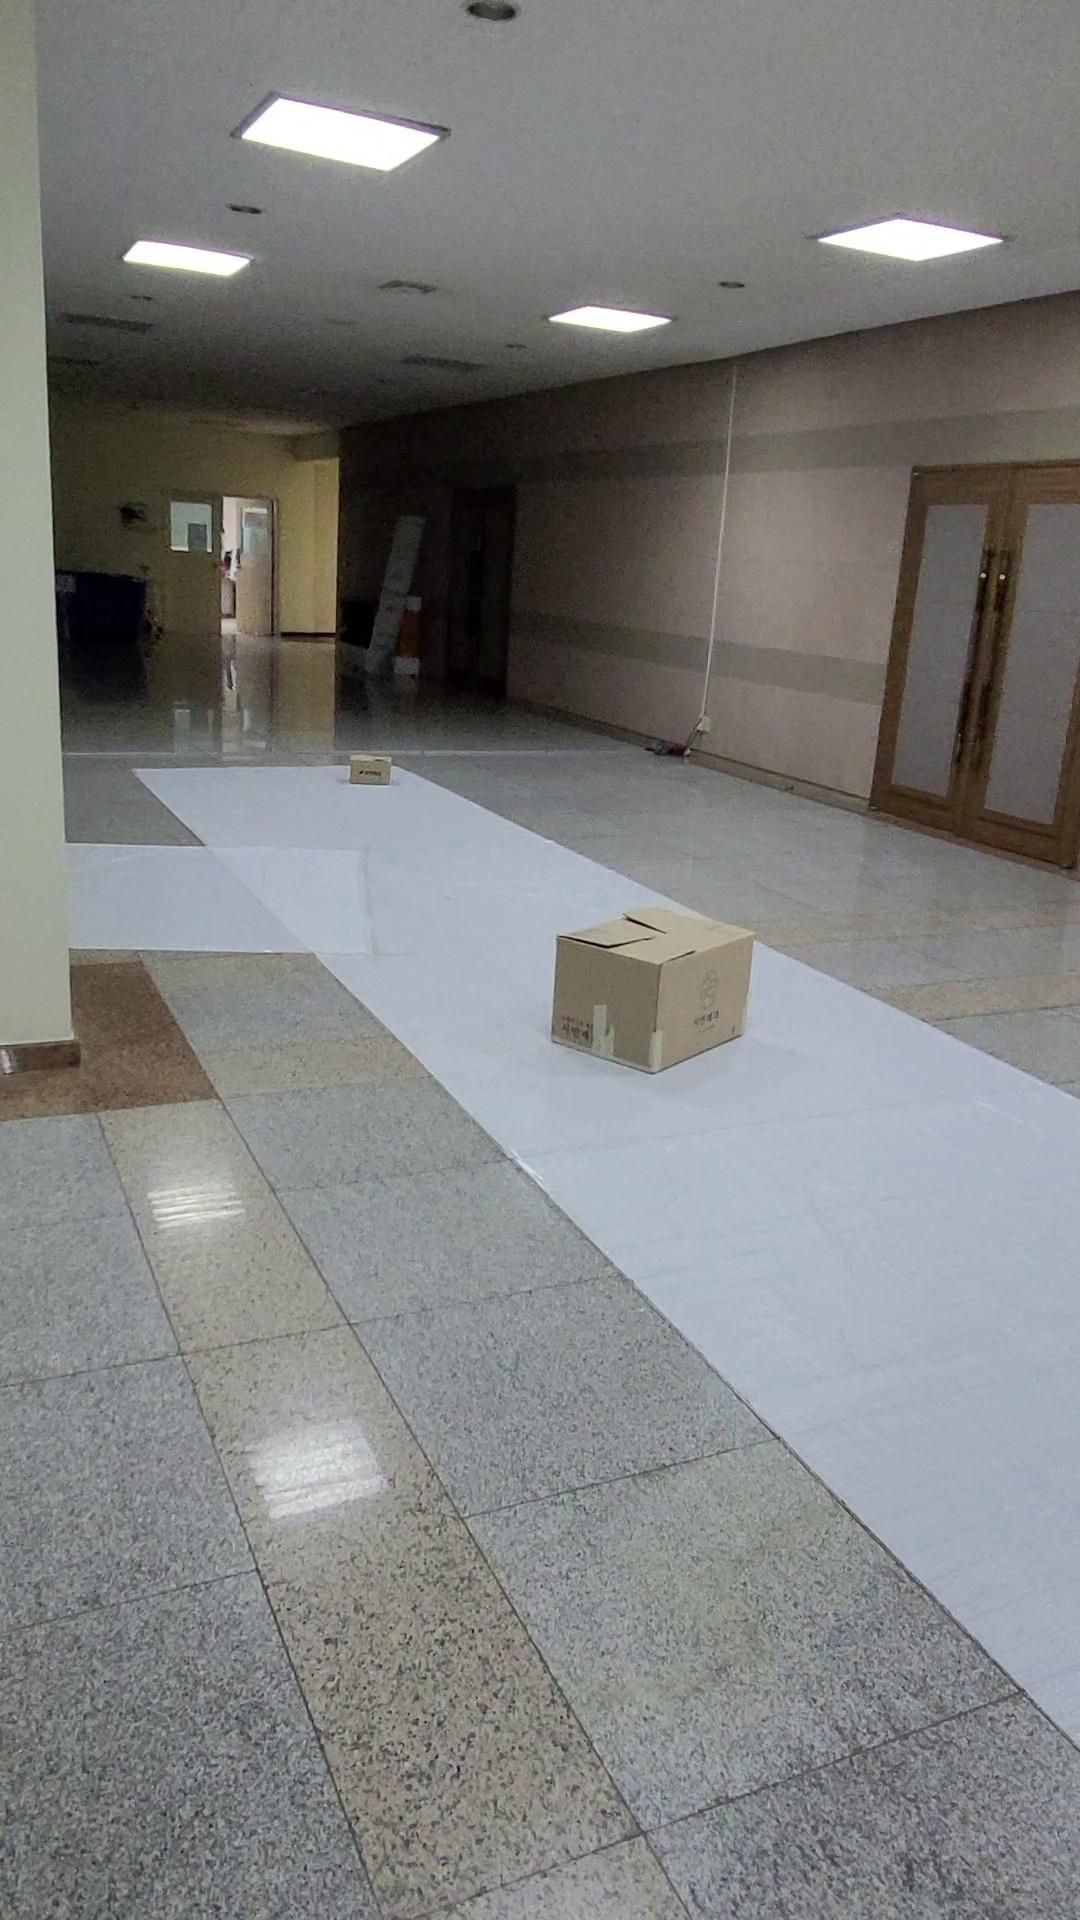Box: (541, 873, 777, 1085), (309, 715, 430, 820)
